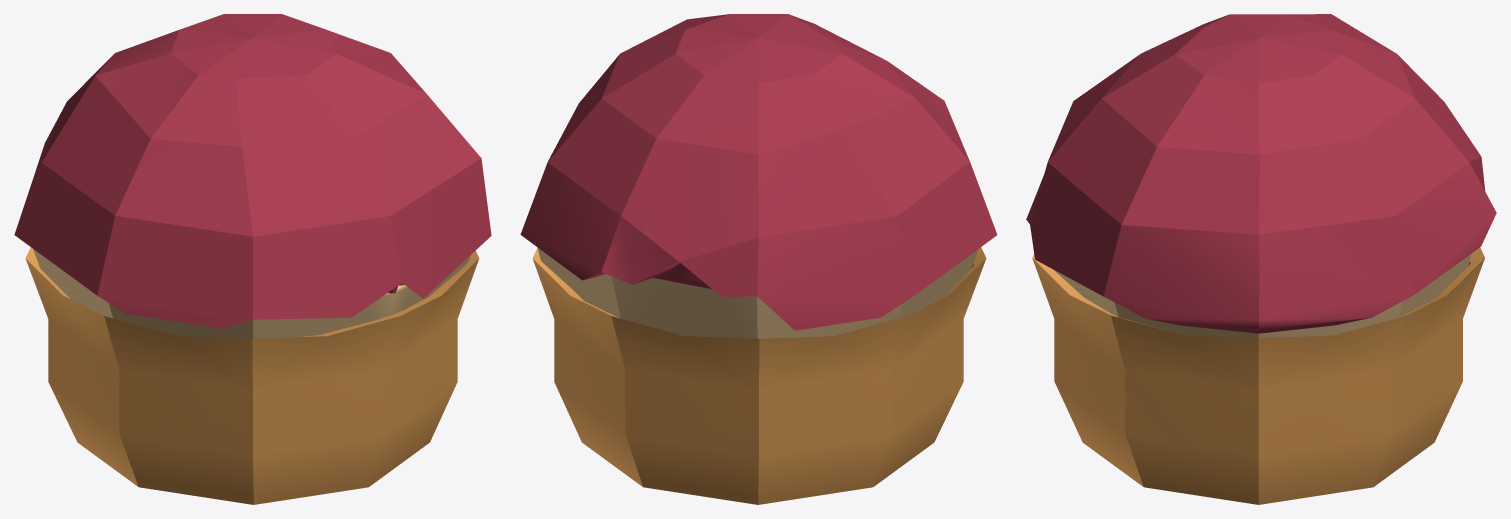
File: glaced_muffin.fbx
The picture shows the model from 3 angles, left to right: view 1: azimuth 30°, elevation 25°; view 2: azimuth 150°, elevation 25°; view 3: azimuth 270°, elevation 25°; orthographic projection.
Visible parts, largest first — view 1: Glaced_Muffin; view 2: Glaced_Muffin; view 3: Glaced_Muffin.
Boxes of the visible parts, bbox=[...] form: Glaced_Muffin: bbox=[14, 14, 491, 504]; Glaced_Muffin: bbox=[520, 14, 997, 504]; Glaced_Muffin: bbox=[1026, 14, 1496, 504].
Bounding box in the file's own units: 2.04 × 1.87 × 2.04.
